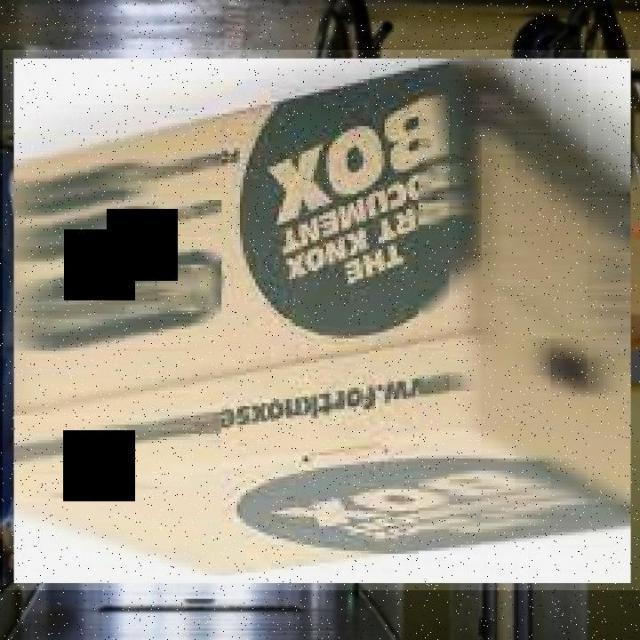box: (3, 50, 640, 591)
